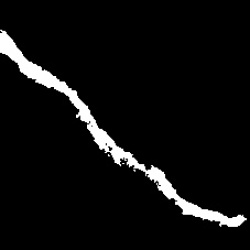crack: (2, 30, 246, 227)
